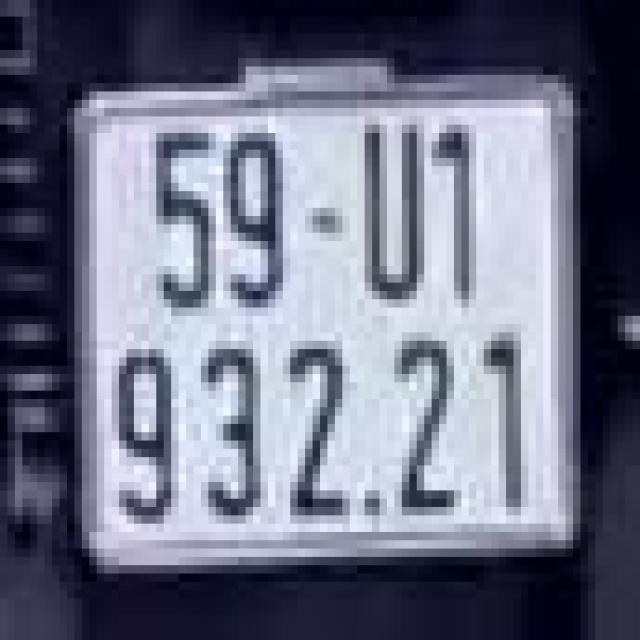1: (476, 324, 536, 524), (432, 108, 484, 308)
2: (376, 328, 465, 528), (279, 324, 354, 540)
3: (201, 341, 275, 524)
5: (142, 121, 224, 320)
9: (216, 120, 305, 312), (100, 345, 182, 528)
U: (346, 108, 428, 316)
